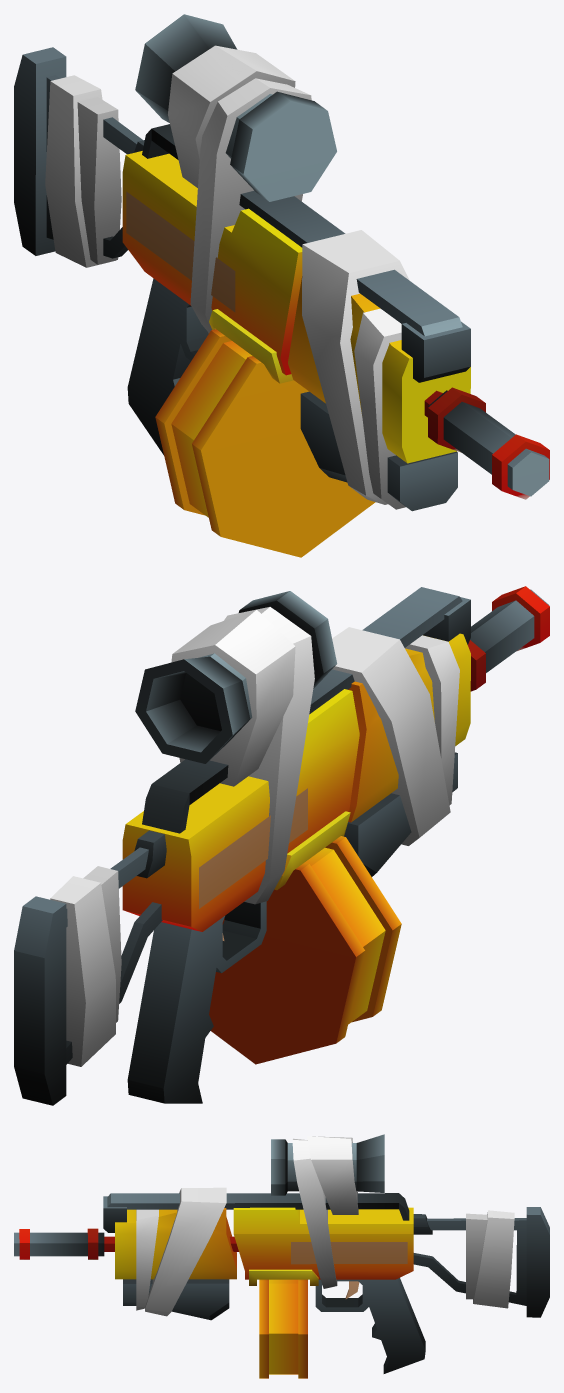
Rendered from Level4Gun.fbx.
The picture shows the model from 3 angles, top to bottom: view 1: azimuth 30°, elevation 25°; view 2: azimuth 150°, elevation 25°; view 3: azimuth 270°, elevation 25°; orthographic projection. The views are drawn at different scales.
Parts seen in each view (by area): view 1: Weapons_011; view 2: Weapons_011; view 3: Weapons_011.
Boxes of the visible parts, bbox=[...] form: Weapons_011: bbox=[14, 14, 549, 557]; Weapons_011: bbox=[14, 586, 549, 1105]; Weapons_011: bbox=[14, 1134, 549, 1378].
Bounding box in the file's own units: 28.81 × 62.74 × 125.
1 material, 1 textured.
